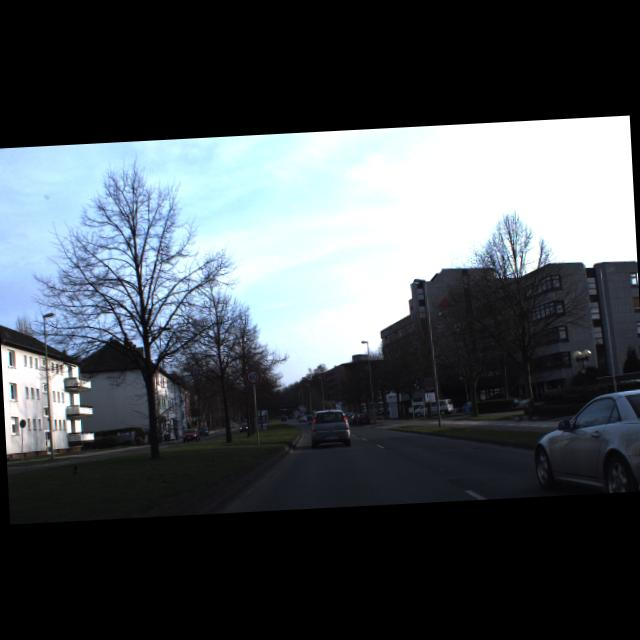prohibitory: (244, 368, 262, 385)
